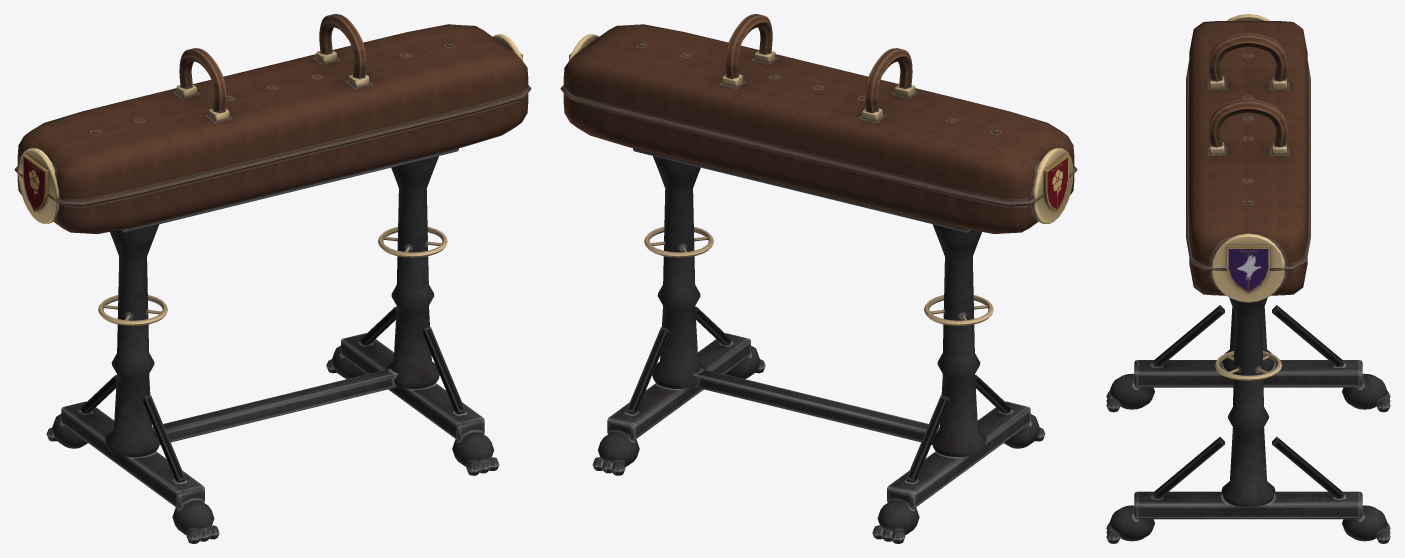
The model's file is PommelHorse.fbx.
3 renders of one model, left to right at view 1: azimuth 30°, elevation 25°; view 2: azimuth 150°, elevation 25°; view 3: azimuth 270°, elevation 25°, orthographic. The views are drawn at different scales.
Parts seen in each view (by area): view 1: PommelHorse; view 2: PommelHorse; view 3: PommelHorse.
Part boxes in pixels (left/top/right/bottom): PommelHorse: left=14, top=14, right=531, bottom=543; PommelHorse: left=560, top=14, right=1077, bottom=543; PommelHorse: left=1106, top=14, right=1390, bottom=543.
Bounding box in the file's own units: 512 × 431 × 274.
